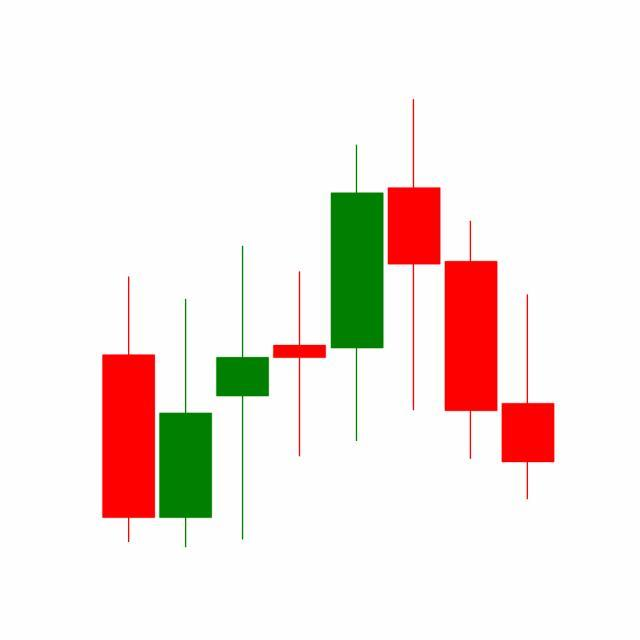Hikkake Pattern: (270, 100, 555, 506)
